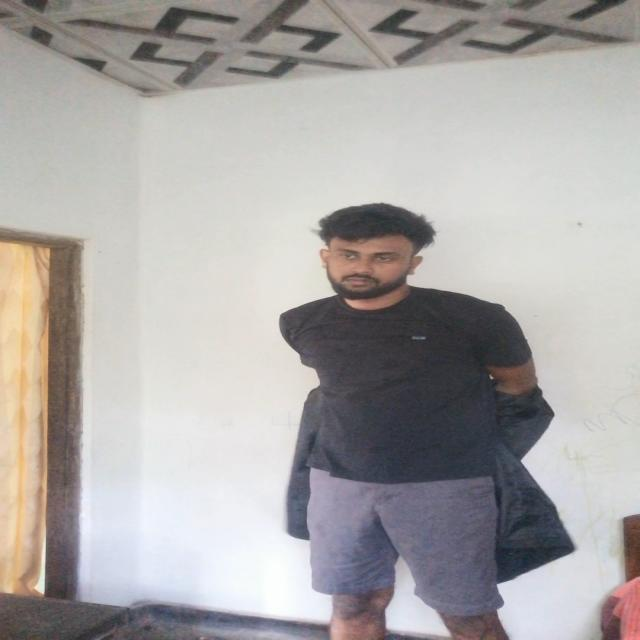Person: (255, 202, 538, 638)
